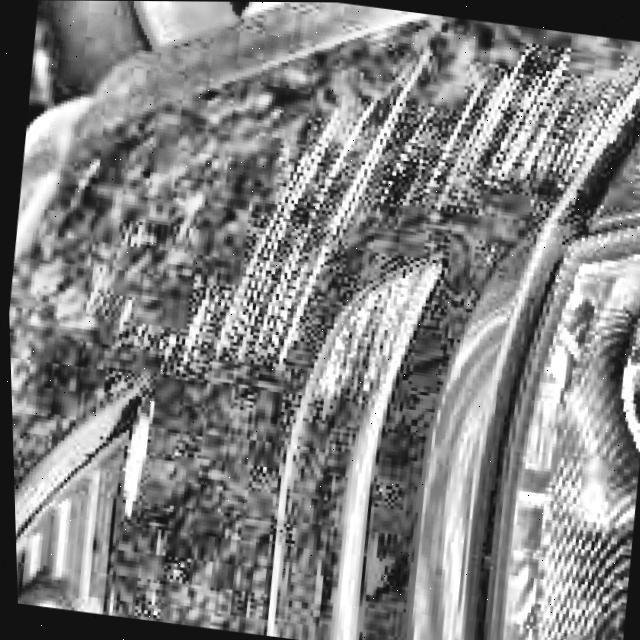bumper_scratch: (128, 56, 410, 399), (399, 27, 640, 236)
